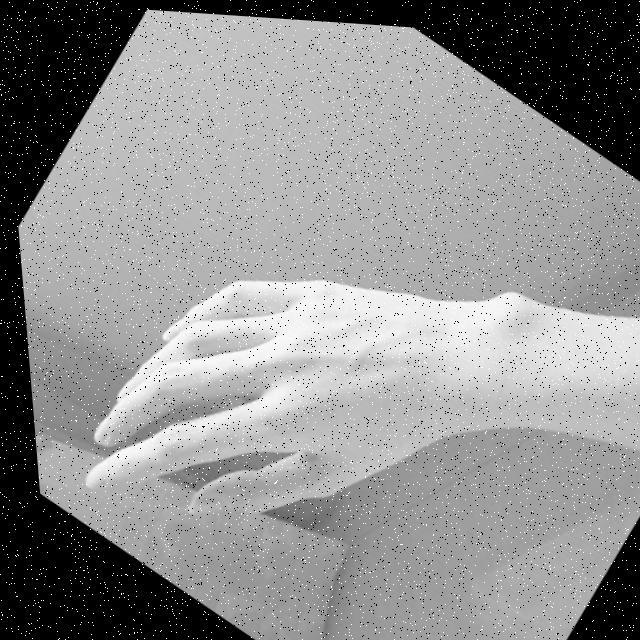no-gloves: (32, 137, 499, 637)
